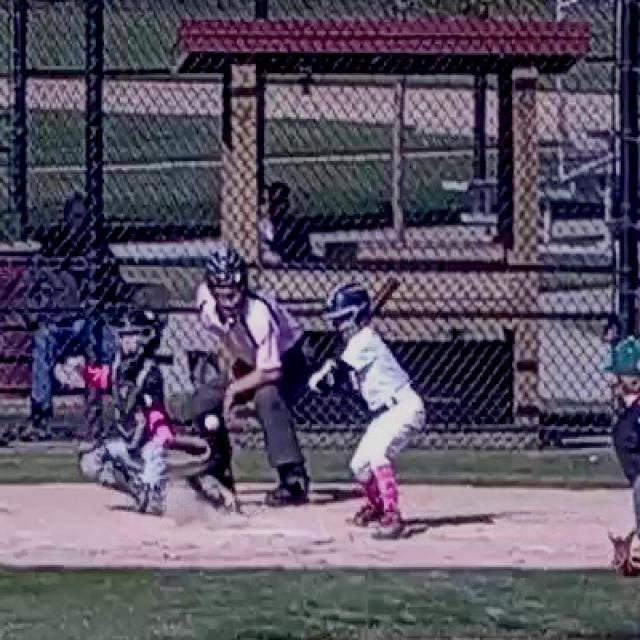baseball: (205, 416, 219, 428)
